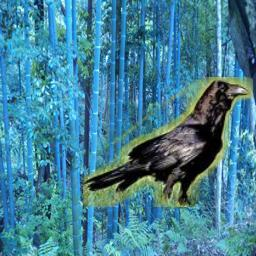Crow: (83, 77, 253, 207)
